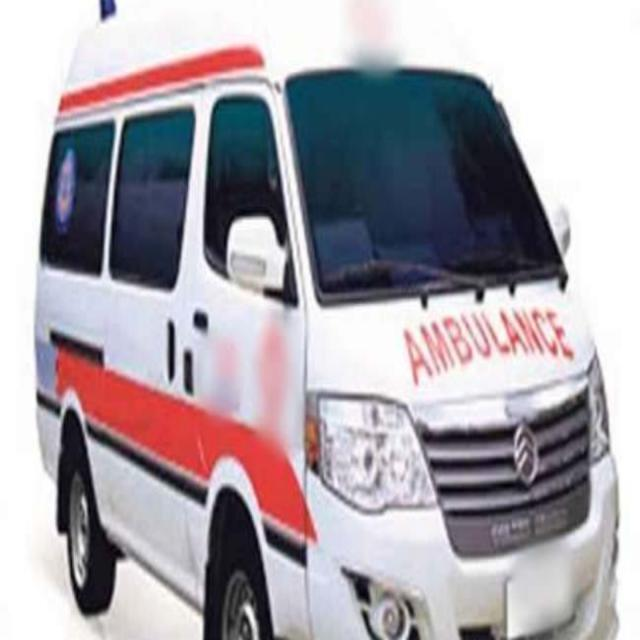ambulance: (47, 12, 620, 640)
